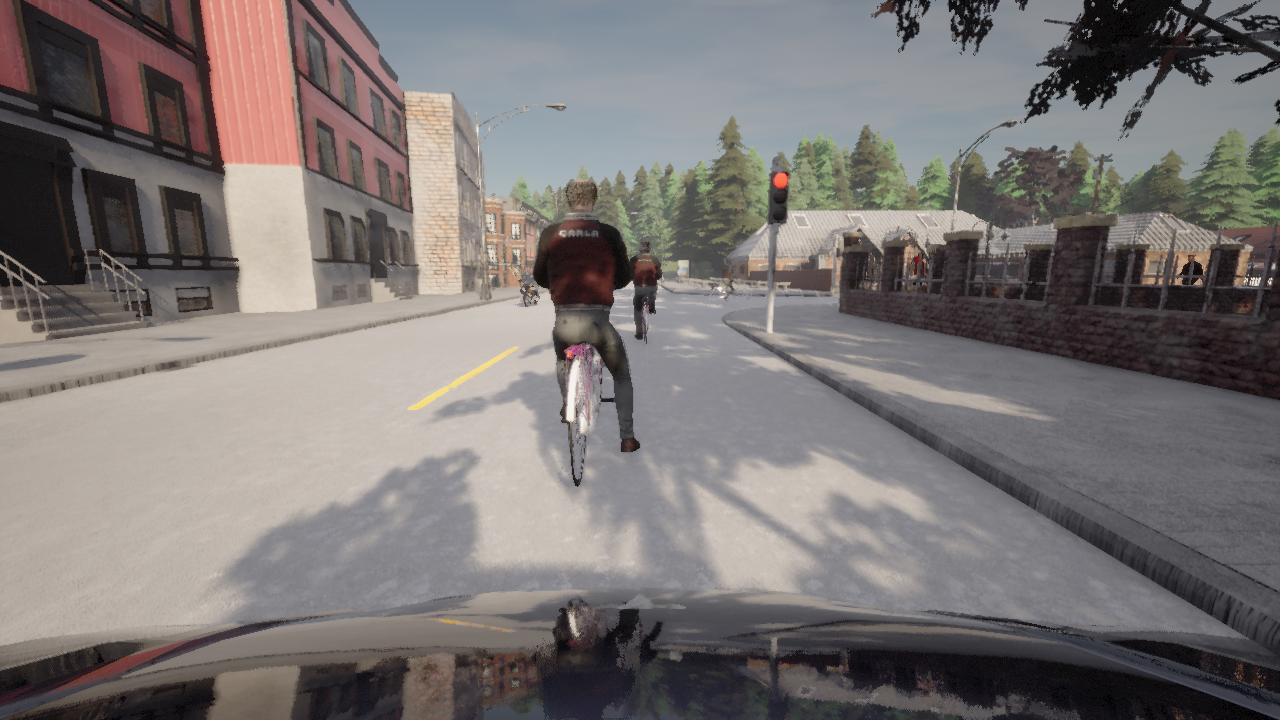cyclist: (0, 588, 1279, 719), (560, 343, 613, 486), (711, 279, 749, 304), (514, 273, 540, 307), (637, 296, 649, 343)
pedestrian: (1174, 253, 1204, 284), (908, 251, 924, 285)
